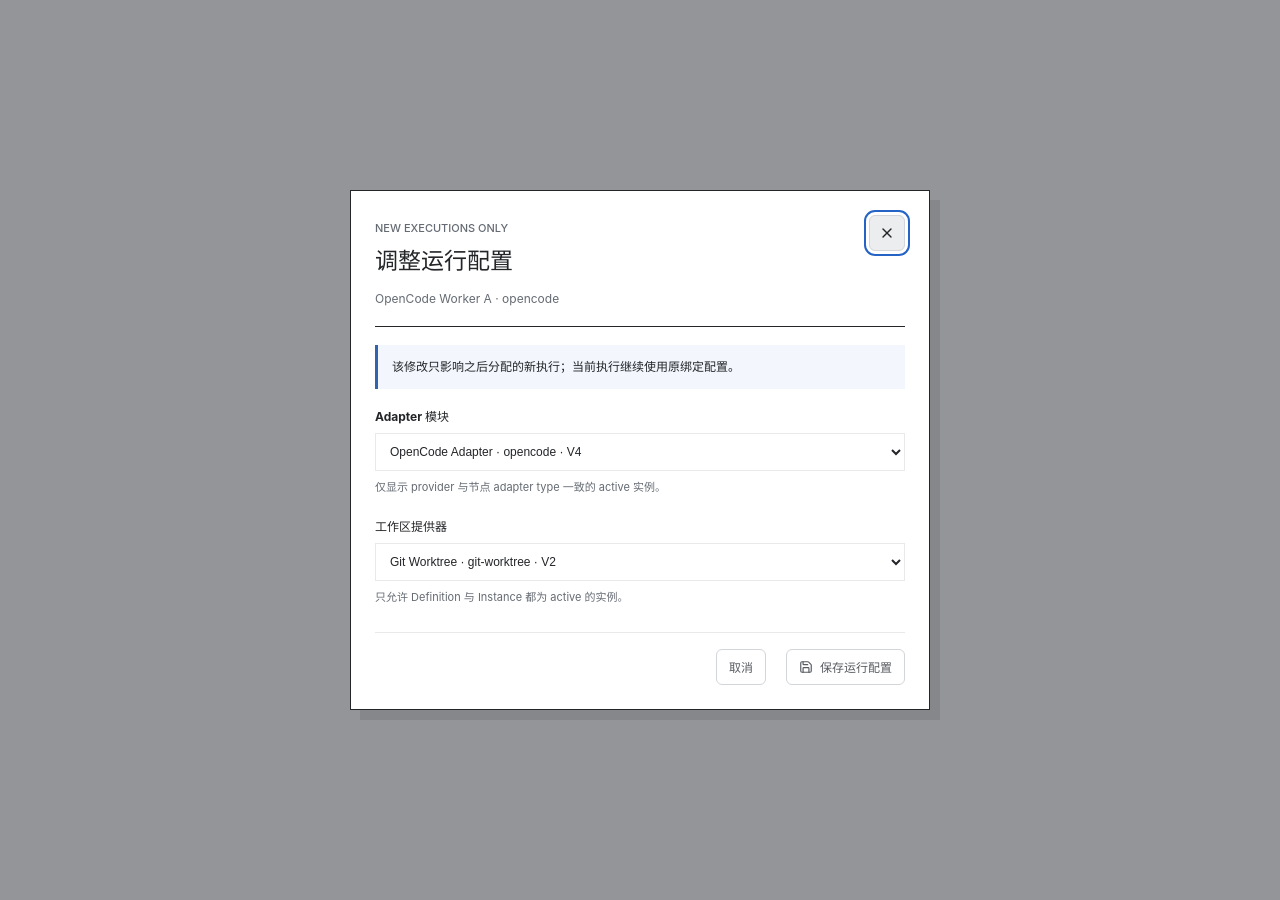
Test: WorkerRuntimeDialog › uses the current runtime version and keeps the dialog open on OCC conflict
Click the button "保存运行配置".
click(846, 667)  # box [786, 649, 905, 685]
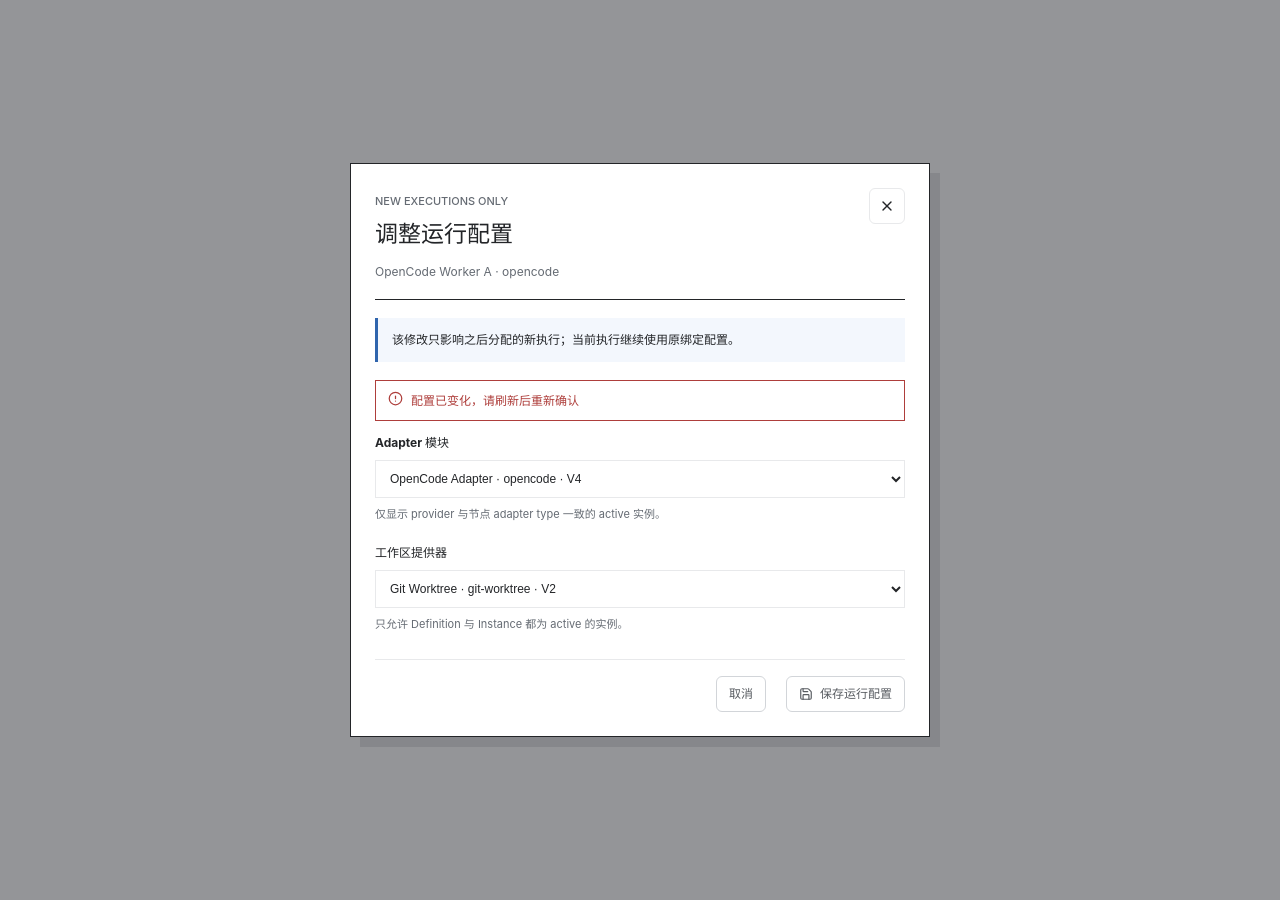
Expected: the dialog "调整运行配置" is shown, [350, 163, 930, 737]
Result: the message reads "配置已变化，请刷新后重新确认" at [411, 393, 579, 408]
